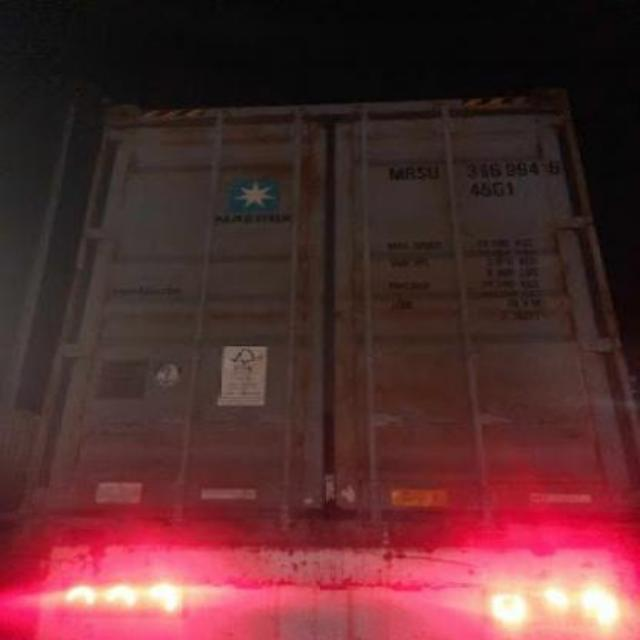3: (460, 157, 478, 183)
4: (528, 156, 542, 182)
6: (546, 154, 562, 176), (491, 154, 504, 180), (478, 156, 488, 182)
9: (502, 156, 516, 182), (516, 156, 528, 180)
M: (384, 160, 406, 186)
R: (404, 160, 416, 184)
S: (414, 158, 428, 185)
U: (426, 162, 444, 186)
